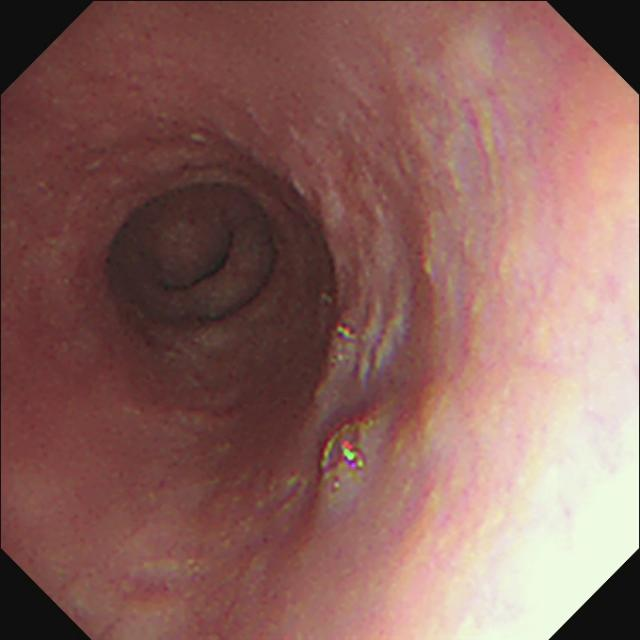E: (96, 178, 282, 335)
T: (317, 419, 367, 489)
